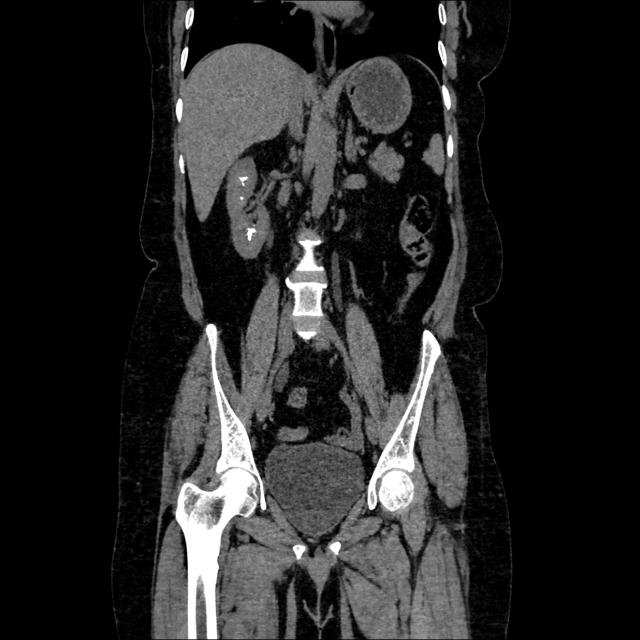kidney: (224, 156, 272, 260)
stone: (247, 225, 256, 241), (240, 175, 248, 182), (240, 197, 244, 200)
